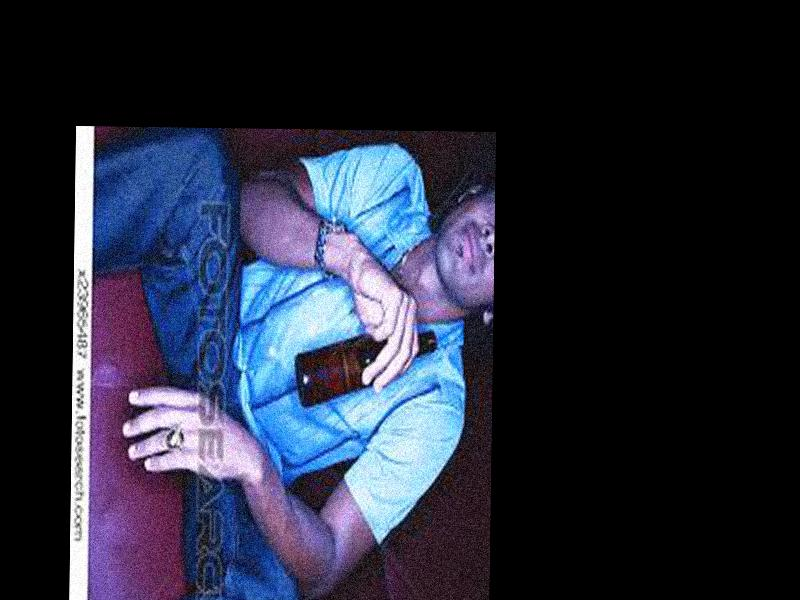Beer: (295, 328, 437, 411)
